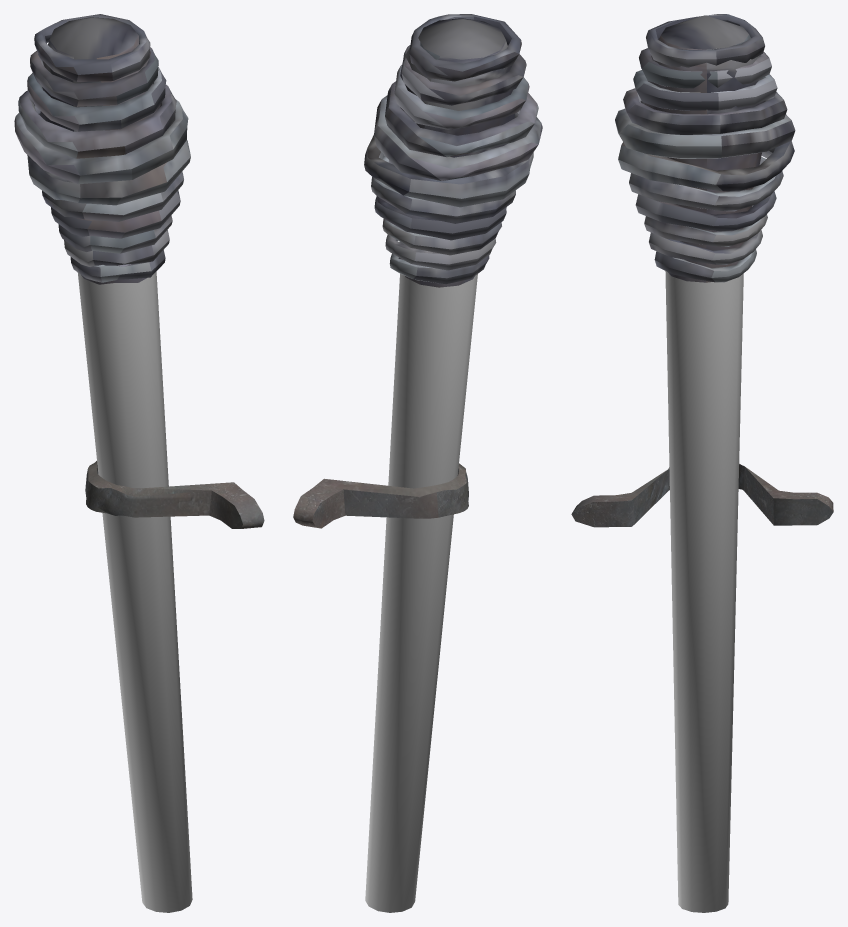
The model's file is SM_Torch_A.fbx.
3 views of the same model, side by side, from view 1: azimuth 30°, elevation 25°; view 2: azimuth 150°, elevation 25°; view 3: azimuth 270°, elevation 25° (orthographic). The views are drawn at different scales.
Visible parts, largest first — view 1: SM_Torch_A_LOD0; view 2: SM_Torch_A_LOD0; view 3: SM_Torch_A_LOD0.
Boxes of the visible parts, x1=… form: SM_Torch_A_LOD0: x1=14, y1=14, x2=264, y2=912; SM_Torch_A_LOD0: x1=293, y1=14, x2=542, y2=912; SM_Torch_A_LOD0: x1=571, y1=14, x2=833, y2=912.
Bounding box in the file's own units: 12.61 × 18.12 × 65.69.
